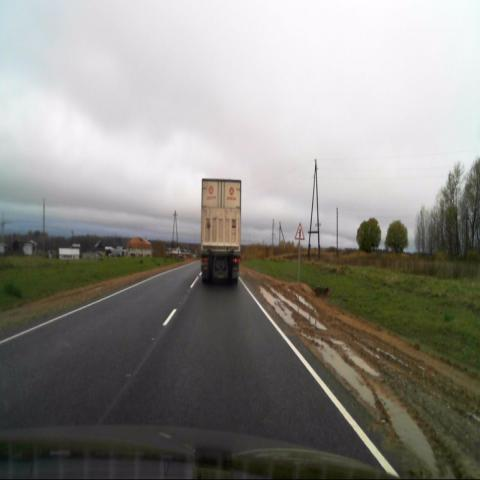2_3_3: (294, 222, 304, 239)
